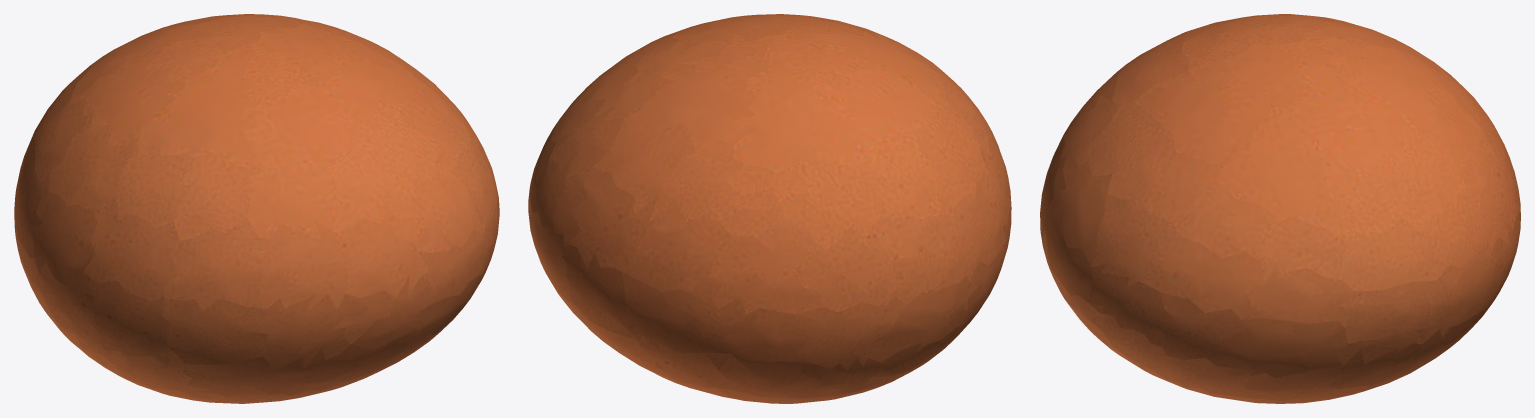
File: egg.glb
The picture shows the model from 3 angles, left to right: view 1: azimuth 30°, elevation 25°; view 2: azimuth 150°, elevation 25°; view 3: azimuth 270°, elevation 25°; orthographic projection.
Visible parts, largest first — view 1: output_unwrapped; view 2: output_unwrapped; view 3: output_unwrapped.
Boxes of the visible parts, bbox=[...] form: output_unwrapped: bbox=[14, 14, 499, 403]; output_unwrapped: bbox=[528, 14, 1011, 403]; output_unwrapped: bbox=[1040, 14, 1520, 403].
Size of the model in its own units: 1.9 by 1.46 by 1.9.
Materials: 1 (1 with a texture image).
